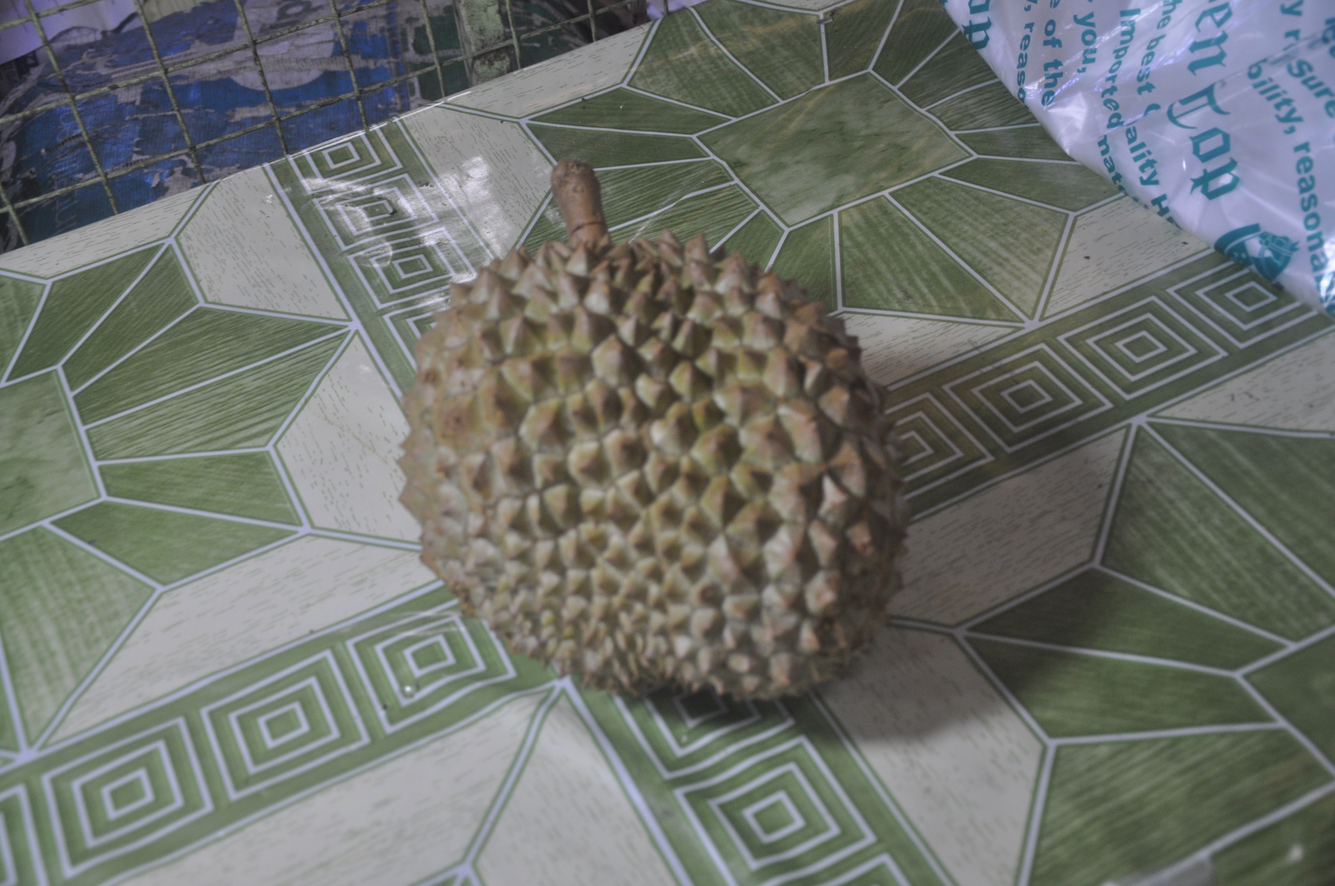mature: (400, 161, 908, 698)
